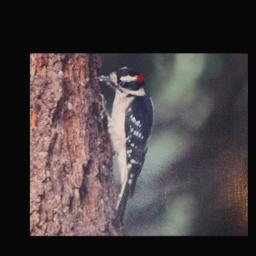Woodpecker: (94, 64, 157, 226)
